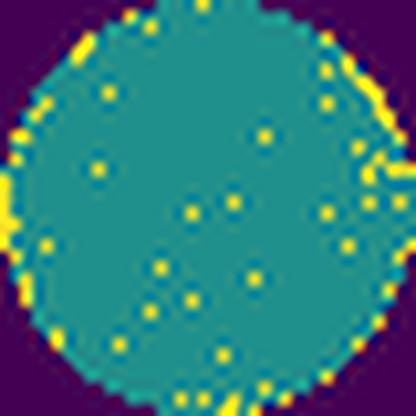Edge-Loc: (338, 55, 406, 149), (0, 170, 25, 258)
